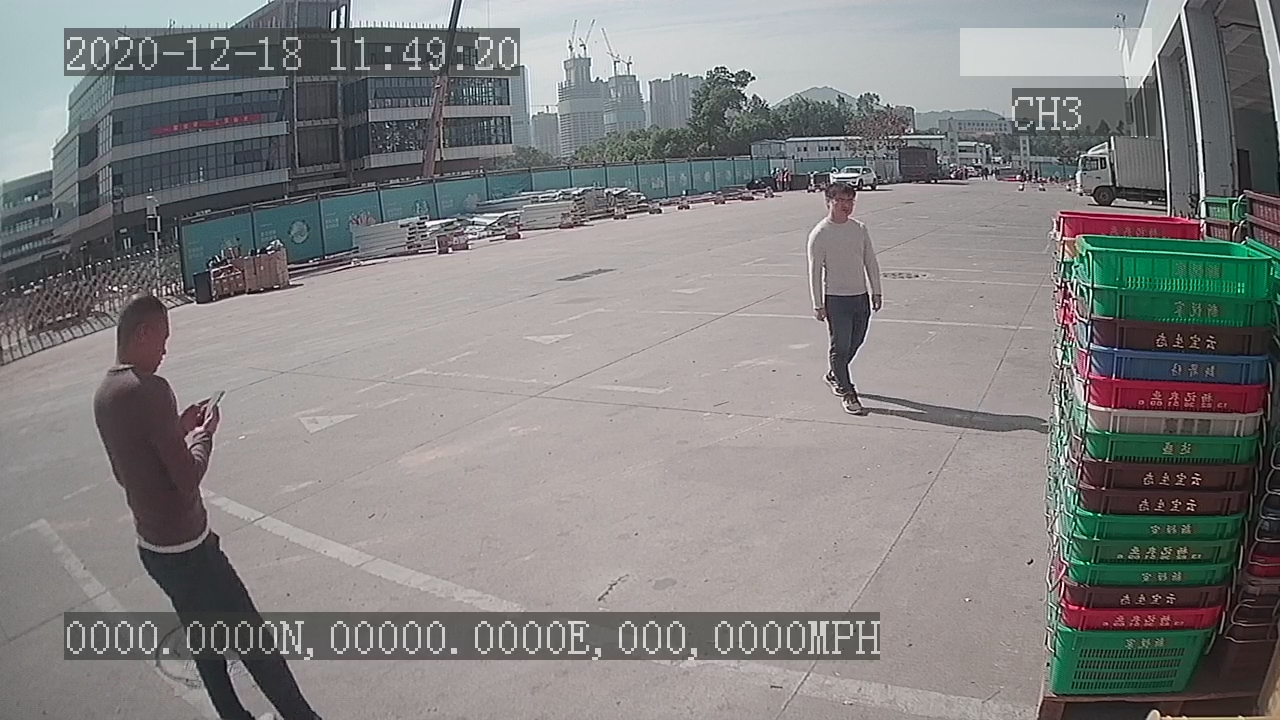person: (802, 181, 886, 419)
